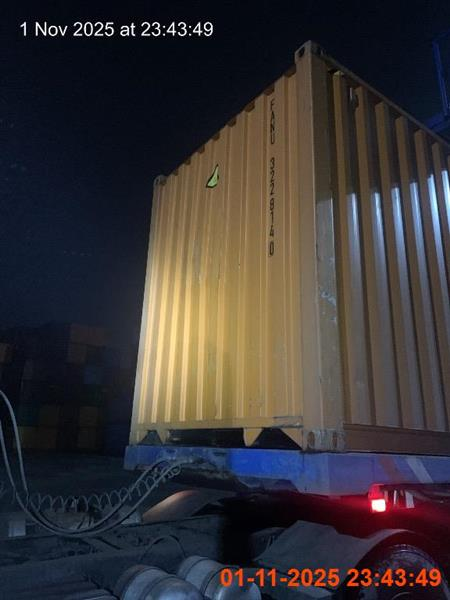crack: (0, 391, 448, 599)
